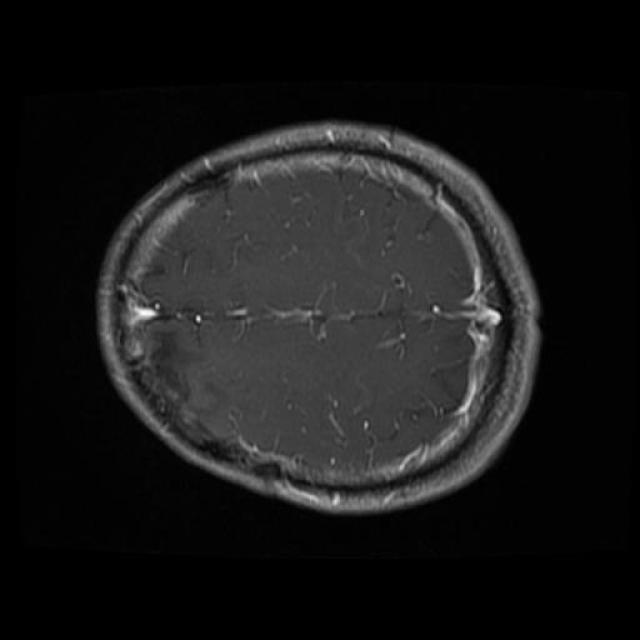Glioma: (123, 300, 224, 448)
